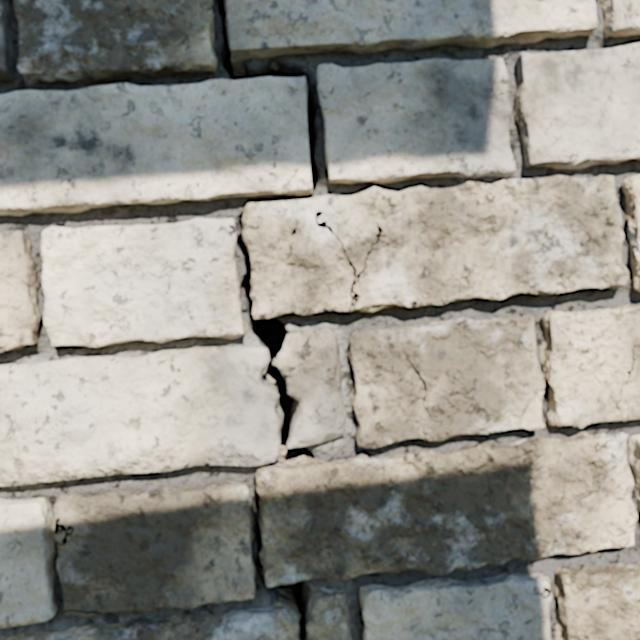broken_brick: (0, 346, 279, 485), (0, 603, 297, 639), (273, 328, 345, 447), (307, 587, 351, 639)
crack: (0, 0, 639, 639), (348, 305, 639, 448), (316, 58, 515, 183), (13, 0, 217, 84), (513, 43, 639, 169), (359, 572, 551, 639), (554, 563, 639, 639), (0, 231, 40, 352), (622, 175, 639, 291), (600, 0, 639, 37), (0, 0, 14, 80)
